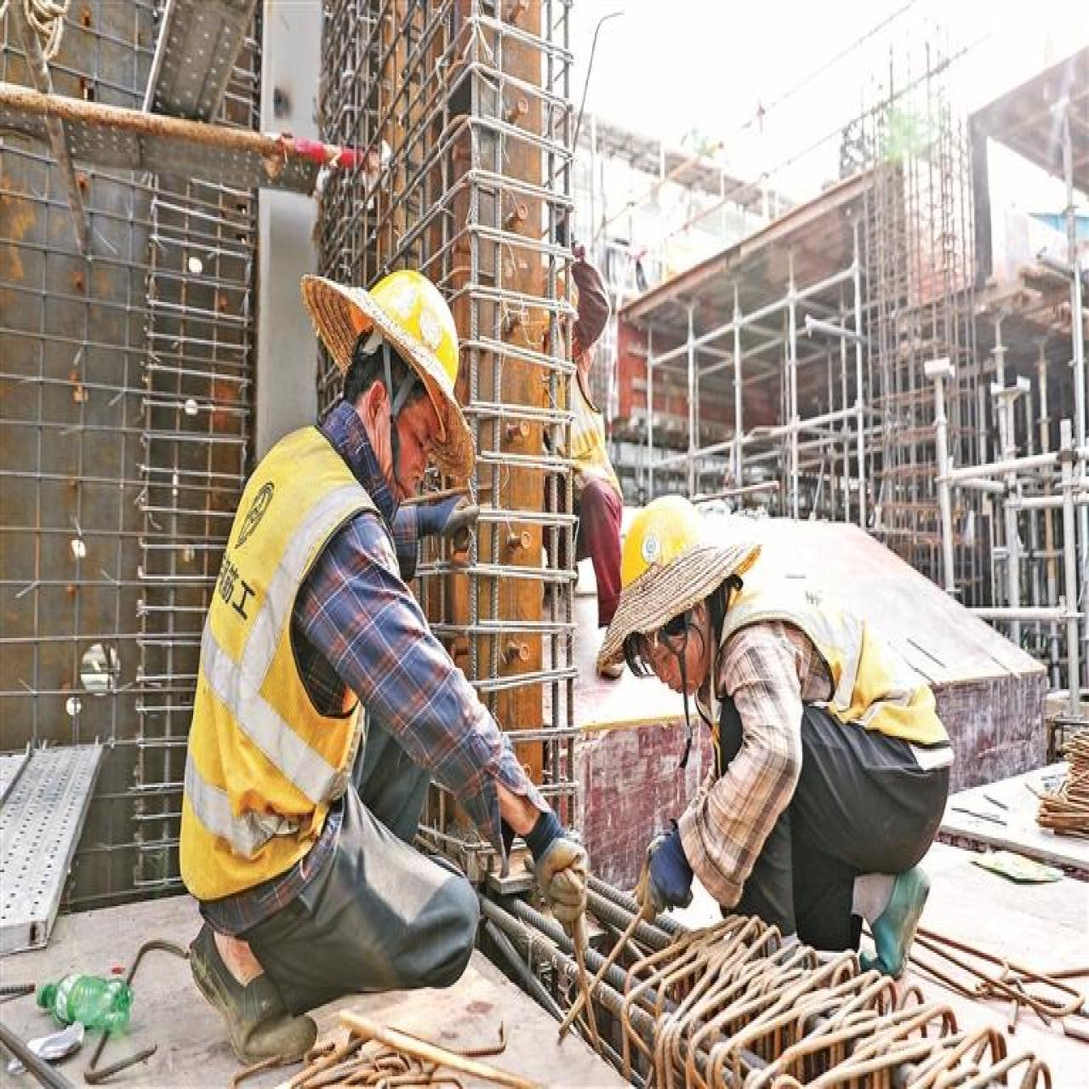Person: (153, 243, 604, 1036), (596, 465, 965, 996)
Safety_Vest: (174, 415, 372, 888), (724, 570, 954, 766)
